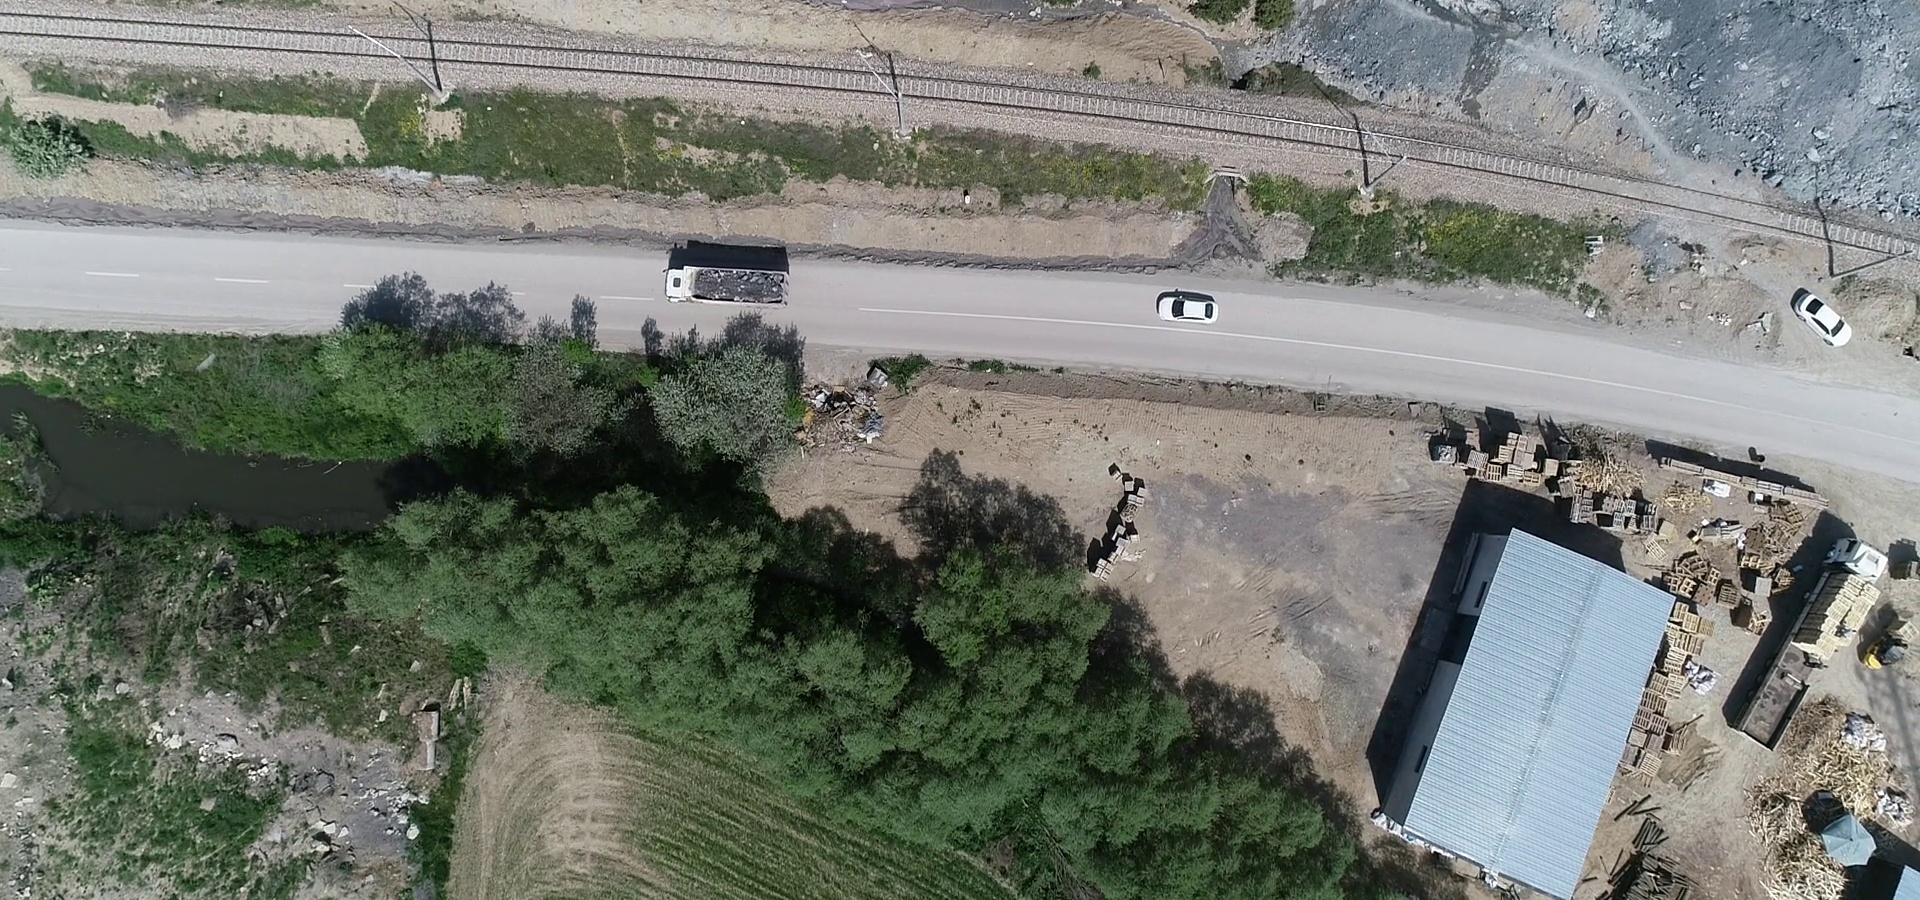araba: (1785, 285, 1850, 354), (1157, 287, 1221, 331)
kamyon: (1718, 531, 1904, 753), (660, 253, 789, 313)
